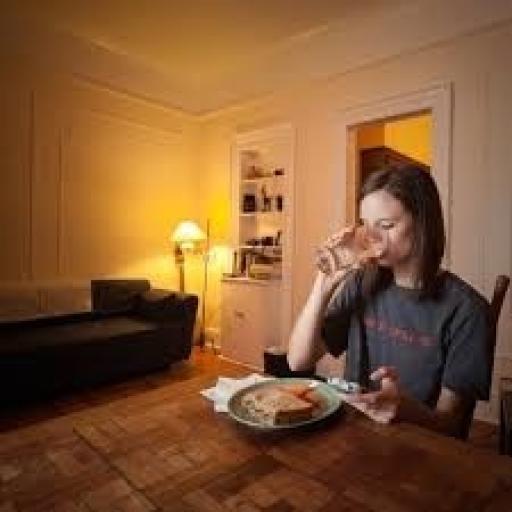eating: (285, 159, 496, 439)
